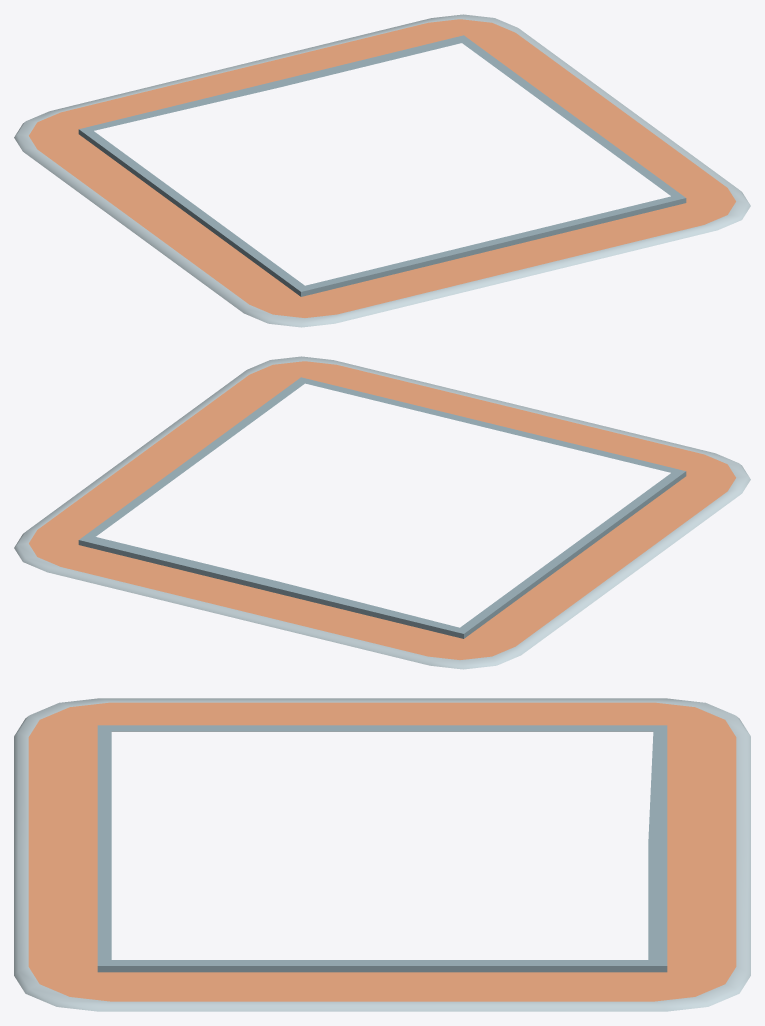
The model's file is Decor_Viahe.fbx.
The picture shows the model from 3 angles, top to bottom: view 1: azimuth 30°, elevation 25°; view 2: azimuth 150°, elevation 25°; view 3: azimuth 270°, elevation 25°; orthographic projection. The views are drawn at different scales.
Visible parts, largest first — view 1: Decor_Viahe; view 2: Decor_Viahe; view 3: Decor_Viahe.
Boxes of the visible parts, <box> form: Decor_Viahe: <box>14,14,750,327</box>; Decor_Viahe: <box>14,356,750,669</box>; Decor_Viahe: <box>14,698,750,1011</box>.
Size of the model in its own units: 4217 by 66.14 by 4217.
